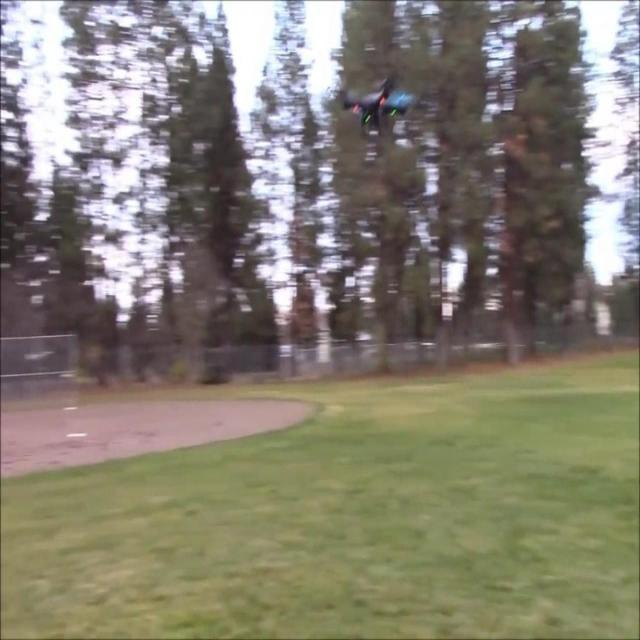UAV: (344, 77, 416, 132)
